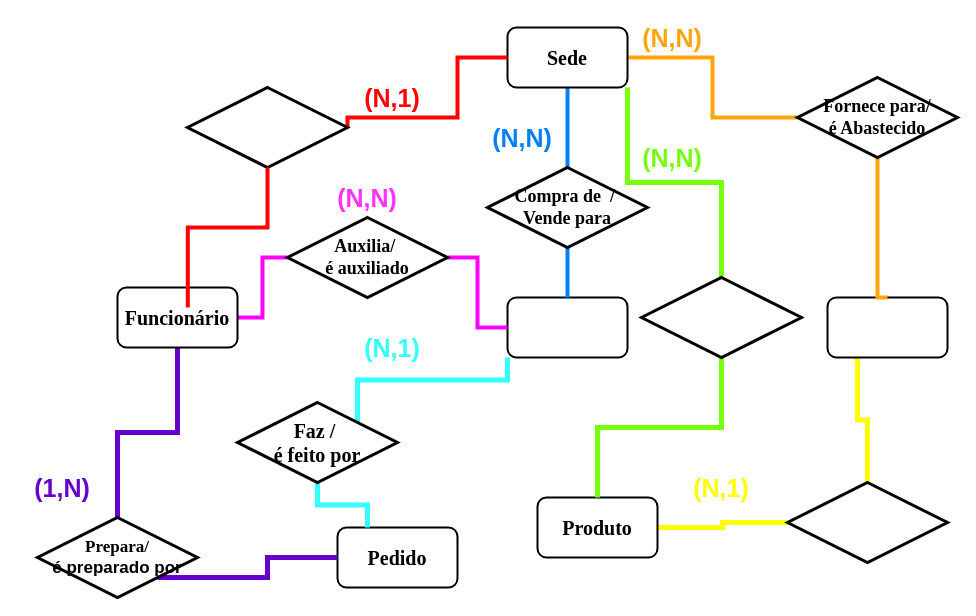
Some shapes in this 976 by 616 pixel diagram are drawn without their labels. Each missing label, with the centre of its shape:
Cliente: [567,327]
Fornece / é fornecido por: [867,522]
Fornecedor: [887,327]
Trabalha em / emprega: [267,127]
Vende / é vendido por: [721,317]
